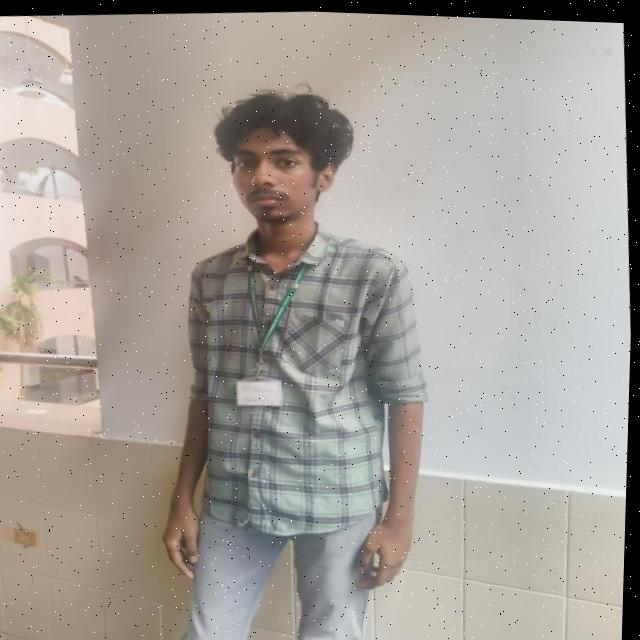id_card: (227, 249, 302, 411)
